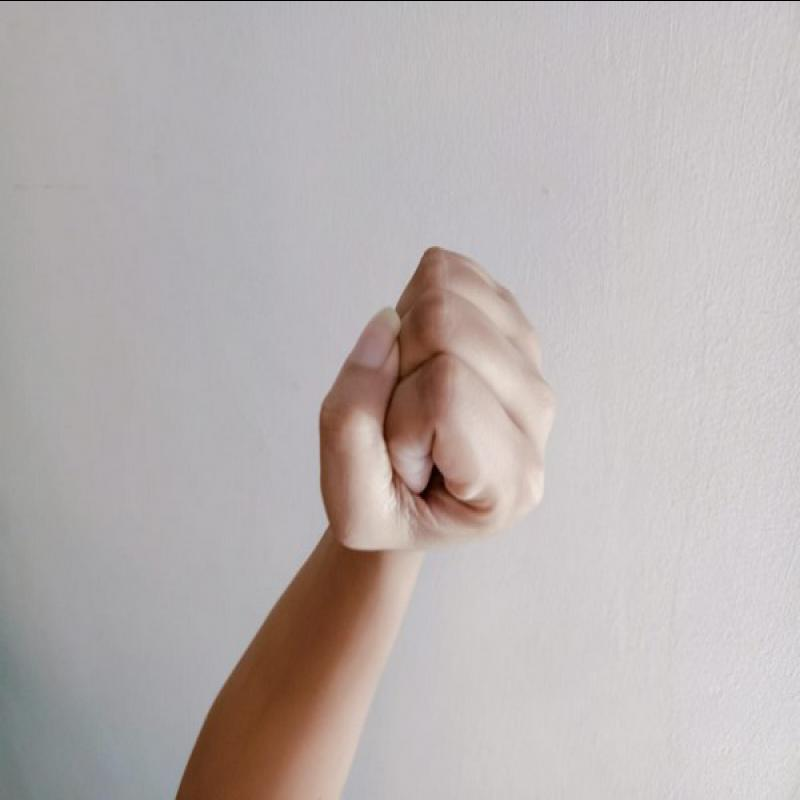Mushti: (298, 223, 579, 584)
